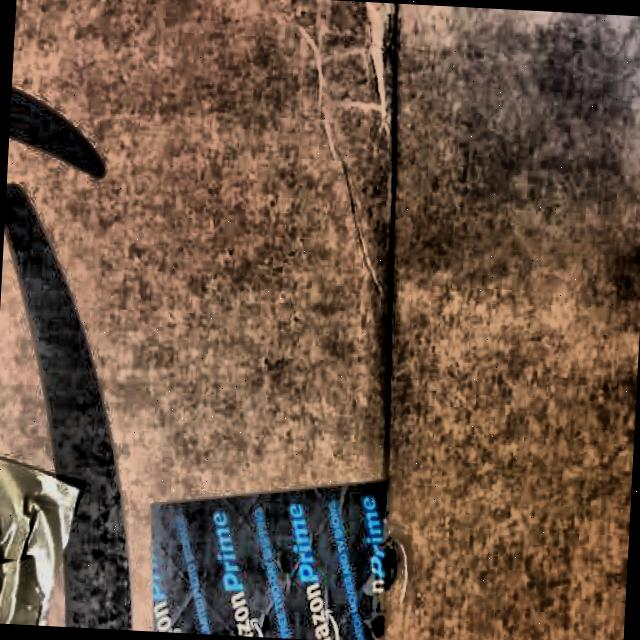cardboard: (2, 2, 618, 600)
